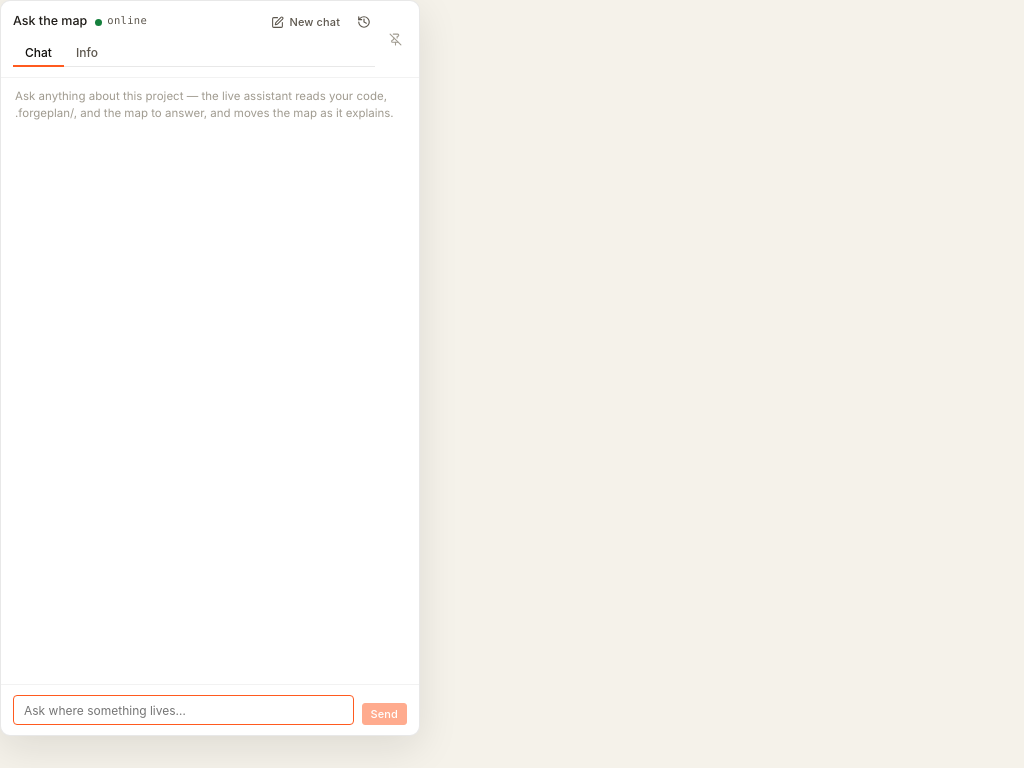
Test case: MapChat — tier1 (live) › clicking Send sends the message and clears the input
In the text box named "Ask the map a question": (183, 710) left=13, top=695, right=354, bottom=725, type "Tell me about CLI Surfaces"
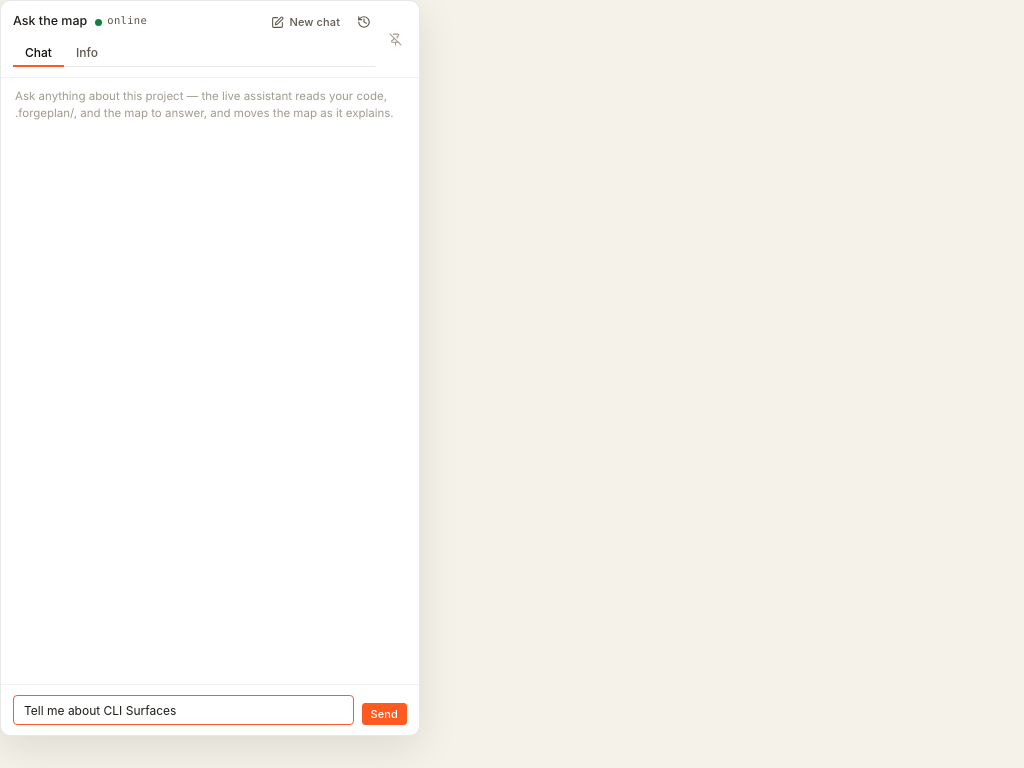
Click the button "Send": (384, 714) left=362, top=703, right=407, bottom=725
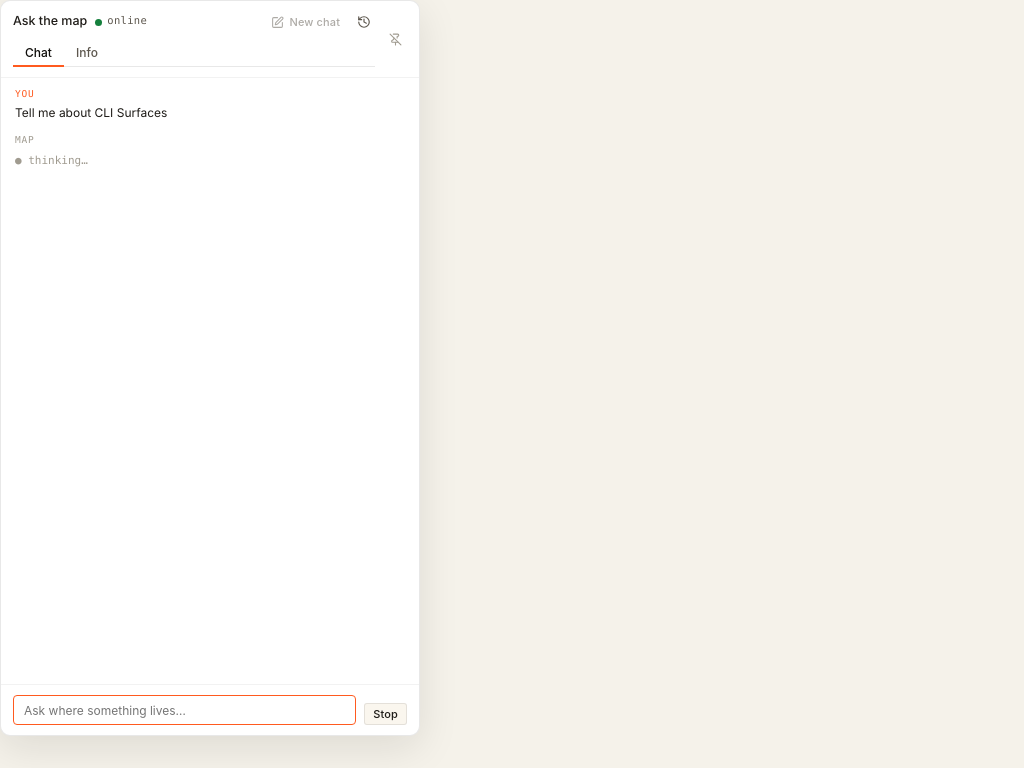
Now the text "CLI Surfaces" is shown, box left=15, top=105, right=167, bottom=120
Now the text box named "Ask the map a question" is empty, box left=13, top=695, right=356, bottom=725
